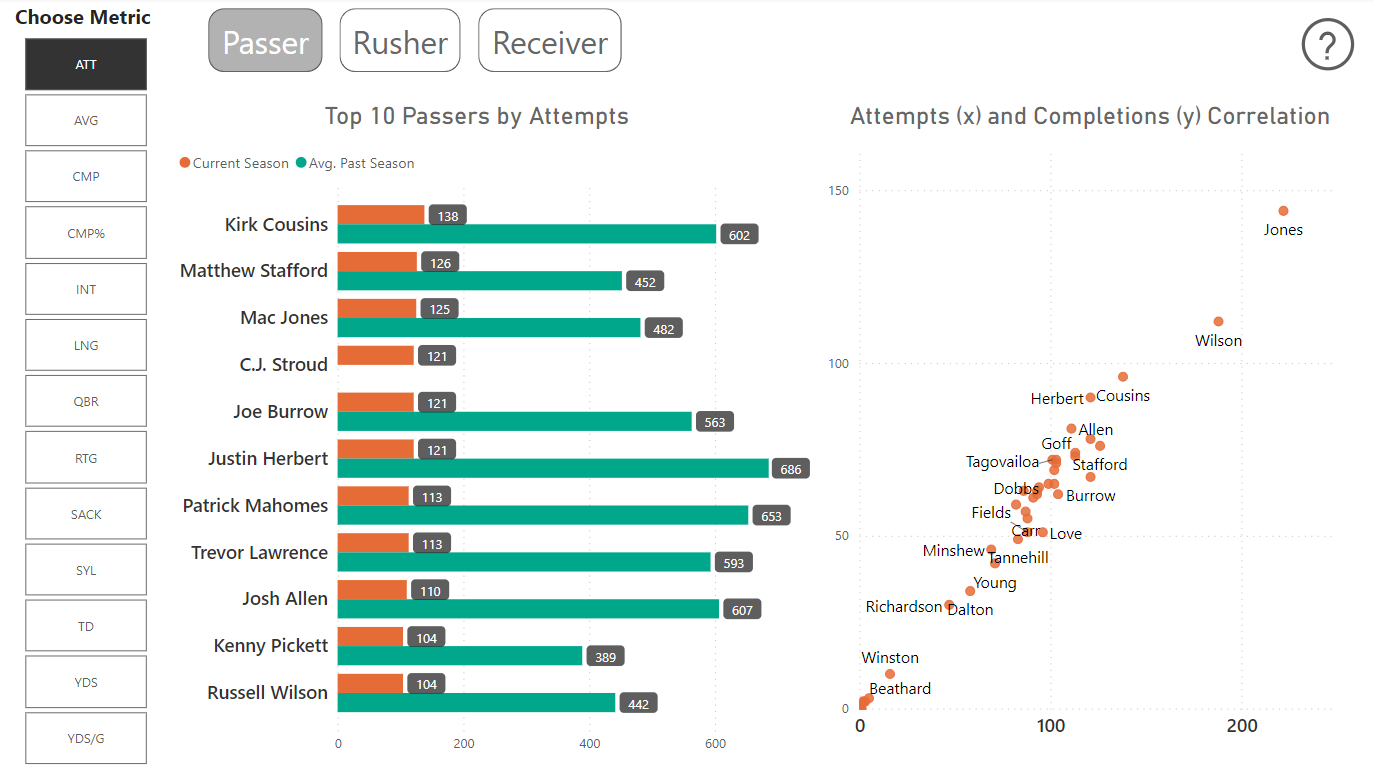

This screenshot's page, from the dashboard's own definition file:
{"tool":"powerbi","page":{"name":"Player Stats","canvas":[1280,720],"ordinal":0},"visuals":[{"type":"clusteredBarChart","title":"Top 10 Passers","fields":{"Category":["Name Dimension.Name"],"Y":["Measures(2).Current Season Passer Dynamic","Meaures.Top 10 Historical Dynamic"]},"box":[163.5,133.3,603,578],"z":0},{"type":"slicer","fields":{"Values":["Weekly Passer Stats (2).Metrics"]},"box":[0,31.2,163.5,688.4],"z":1000},{"type":"actionButton","title":"d","box":[196.8,10.4,106.2,59.4],"z":2000},{"type":"actionButton","title":"d","box":[318.7,10.4,112.5,59.4],"z":3000},{"type":"actionButton","title":"d","box":[446.8,10.4,133.3,59.4],"z":4000},{"type":"actionButton","box":[1206.1,12.6,66.1,62.2],"z":5000},{"type":"scatterChart","title":"Correlation between Yards and TDs","fields":{"Category":["Name - Dimension.Last Name"],"X":["Measures(2).Current Season Passer Dynamic"],"Y":["Measures(2).Y-axis Correlation - Current Season Passer Dynamic"]},"box":[766.5,133.3,498.9,578],"z":6000},{"type":"textbox","box":[11.5,0,152.1,40.6],"z":7000},{"type":"card","fields":{"Values":["Measures(2).Y-axis Title Correlation - Current Season Passer Dynamic"]},"box":[766.5,86.4,498.9,46.9],"z":8000},{"type":"card","fields":{"Values":["Measures(2).Title Bar Chart - Current Season Passer Dynamic"]},"box":[145.8,86.4,602,46.9],"z":9000}]}

Visuals, with their boxes in screenshot pixels (x1, y1, x2, y2), scaled from the page's 1280x720 canvas onto the 1373x768 screenshot:
"Top 10 Passers" clusteredBarChart: x1=175 y1=142 x2=822 y2=759
slicer - Weekly Passer Stats (2).Metrics: x1=0 y1=33 x2=175 y2=767
"d" actionButton: x1=211 y1=11 x2=325 y2=74
"d" actionButton: x1=342 y1=11 x2=463 y2=74
"d" actionButton: x1=479 y1=11 x2=622 y2=74
actionButton: x1=1294 y1=13 x2=1365 y2=80
"Correlation between Yards and TDs" scatterChart: x1=822 y1=142 x2=1357 y2=759
textbox: x1=12 y1=0 x2=175 y2=43
card - Measures(2).Y-axis Title Correlation - Current Season Passer Dynamic: x1=822 y1=92 x2=1357 y2=142
card - Measures(2).Title Bar Chart - Current Season Passer Dynamic: x1=156 y1=92 x2=802 y2=142
